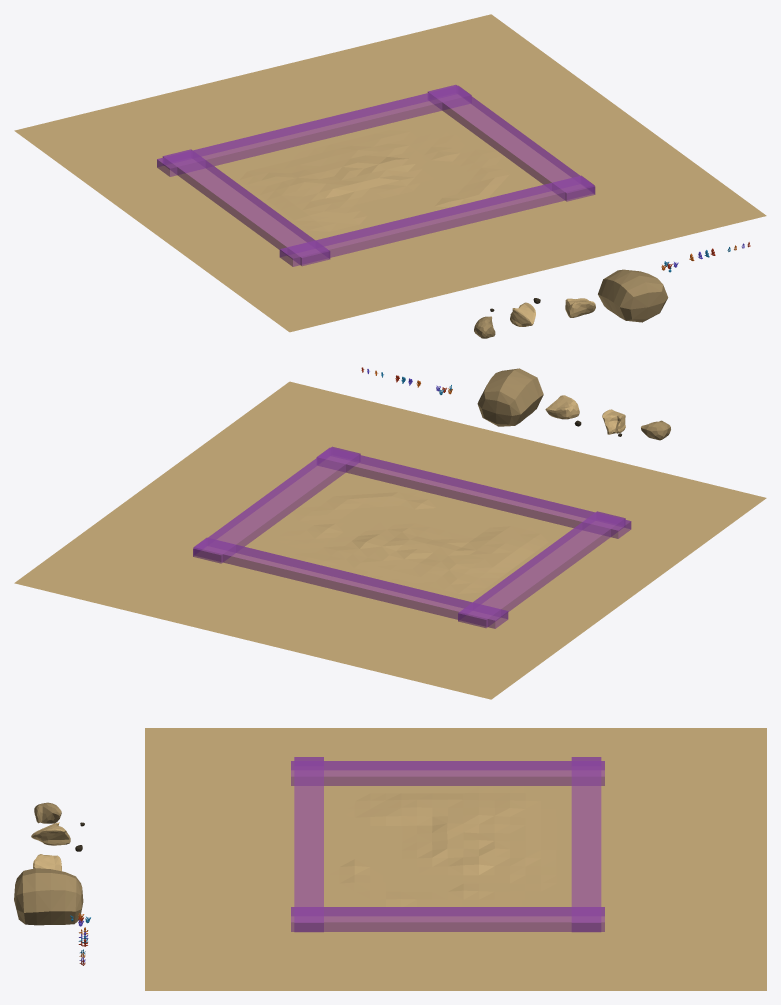
File: map.glb
3 views of the same model, one above another, from view 1: azimuth 30°, elevation 25°; view 2: azimuth 150°, elevation 25°; view 3: azimuth 270°, elevation 25° (orthographic). The views are drawn at different scales.
Parts seen in each view (by area): view 1: Plane, Terrain, Wall 4, Wall 3, Wall 1, Wall 2, Rock1; view 2: Plane, Terrain, Wall 3, Wall 4, Wall 1, Wall 2, Rock1, Rock3; view 3: Plane, Terrain, Wall 1, Wall 2, Wall 3, Wall 4, Rock1, Rock5, Rock2.
Boxes of the visible parts, bbox=[...] form: Plane: bbox=[14, 14, 766, 332]; Terrain: bbox=[227, 125, 509, 231]; Wall 4: bbox=[279, 175, 594, 266]; Wall 3: bbox=[157, 85, 471, 176]; Wall 1: bbox=[162, 149, 330, 266]; Wall 2: bbox=[427, 84, 595, 201]; Rock1: bbox=[598, 269, 668, 322]; Plane: bbox=[14, 381, 766, 699]; Terrain: bbox=[277, 492, 548, 594]; Wall 3: bbox=[193, 537, 508, 628]; Wall 4: bbox=[316, 447, 631, 538]; Wall 1: bbox=[458, 511, 625, 627]; Wall 2: bbox=[193, 446, 360, 563]; Rock1: bbox=[477, 368, 543, 426]; Rock3: bbox=[545, 395, 579, 419]; Plane: bbox=[145, 728, 766, 990]; Terrain: bbox=[328, 786, 571, 915]; Wall 1: bbox=[291, 761, 604, 785]; Wall 2: bbox=[291, 907, 604, 931]; Wall 3: bbox=[571, 757, 601, 932]; Wall 4: bbox=[294, 757, 323, 932]; Rock1: bbox=[14, 868, 83, 925]; Rock5: bbox=[31, 822, 70, 845]; Rock2: bbox=[34, 802, 61, 823].
Bounding box in the file's own units: 60 × 5.3 × 72.66.
